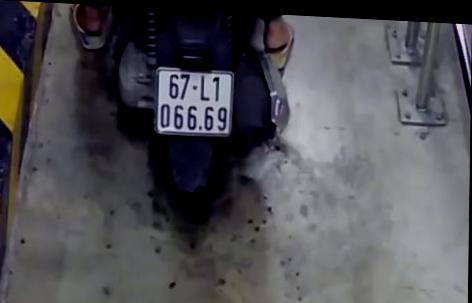License_Plate: (150, 62, 238, 144)
